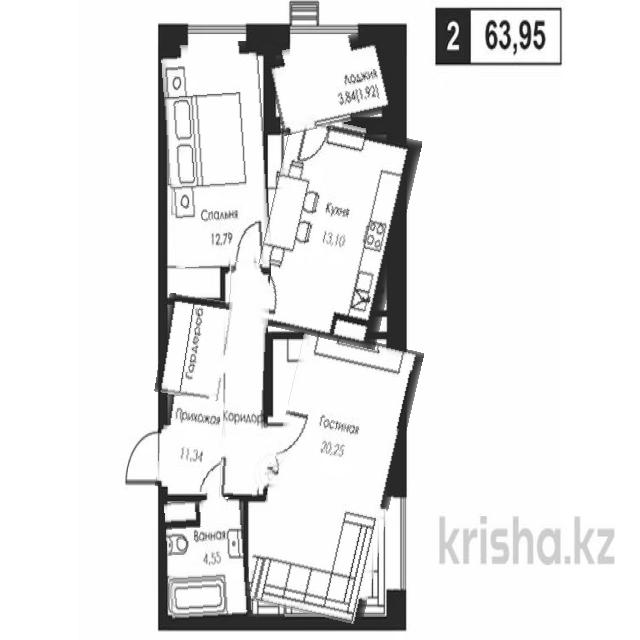balcony: (269, 33, 400, 130)
bathroom: (166, 499, 250, 624)
hallway: (222, 263, 268, 498), (158, 397, 226, 493)
kitchen: (256, 118, 411, 344)
living_room: (258, 331, 410, 621), (164, 42, 269, 266)
other: (158, 295, 230, 399)
